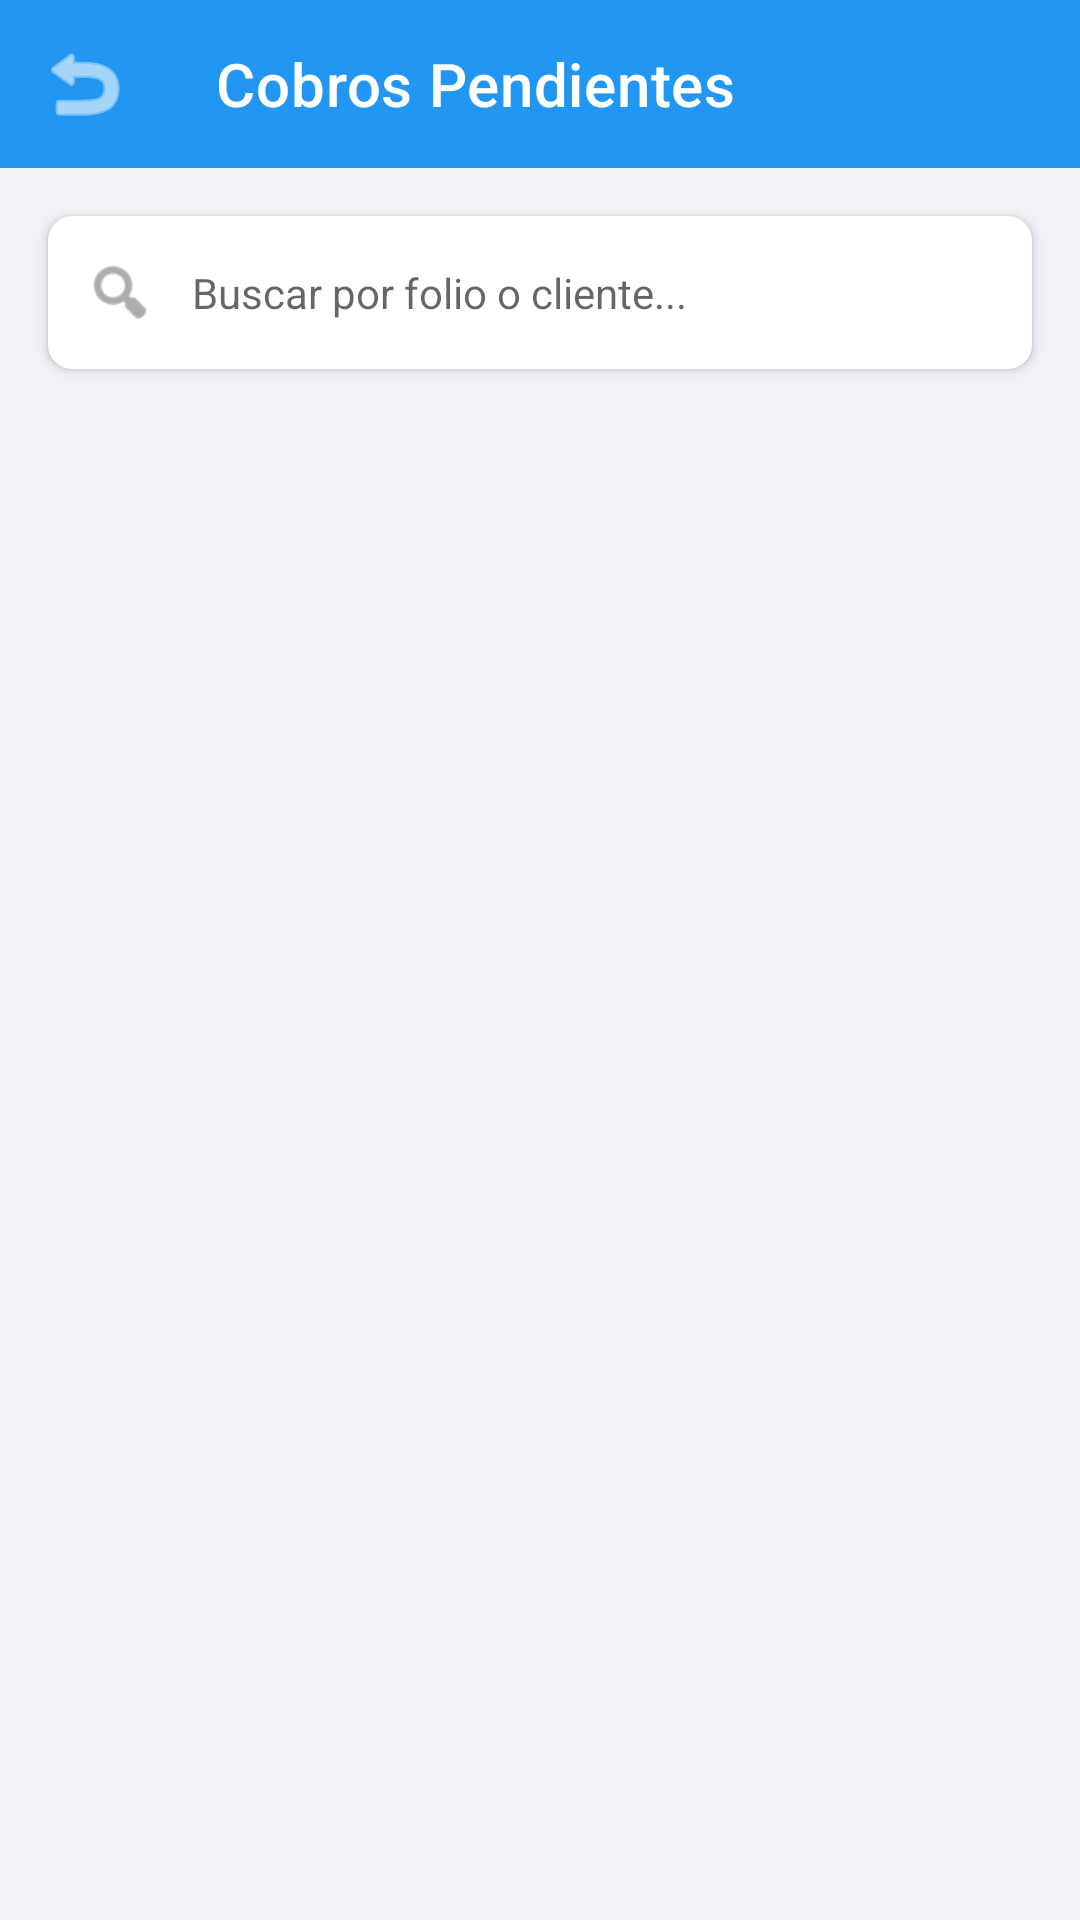

Where icons sit on this 1080w x 1920h app screen, as (x1, y1, x2, y2):
search: (94, 266, 146, 319)
